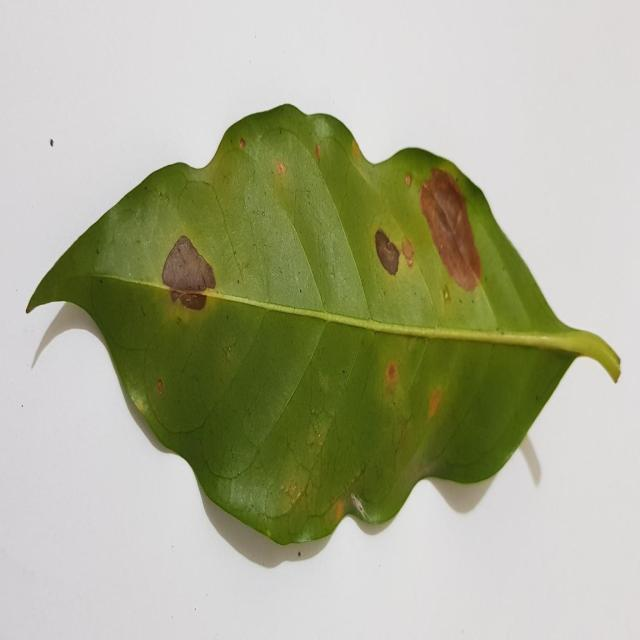Plaga-Minador: (27, 105, 622, 548)
